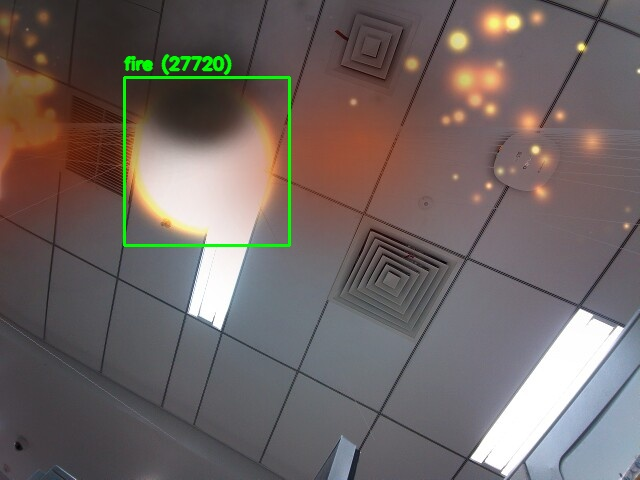fire: (124, 77, 289, 245)
